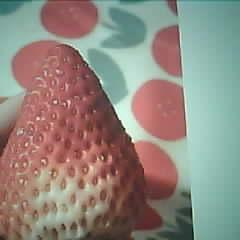straw-ripe: (0, 44, 146, 240)
